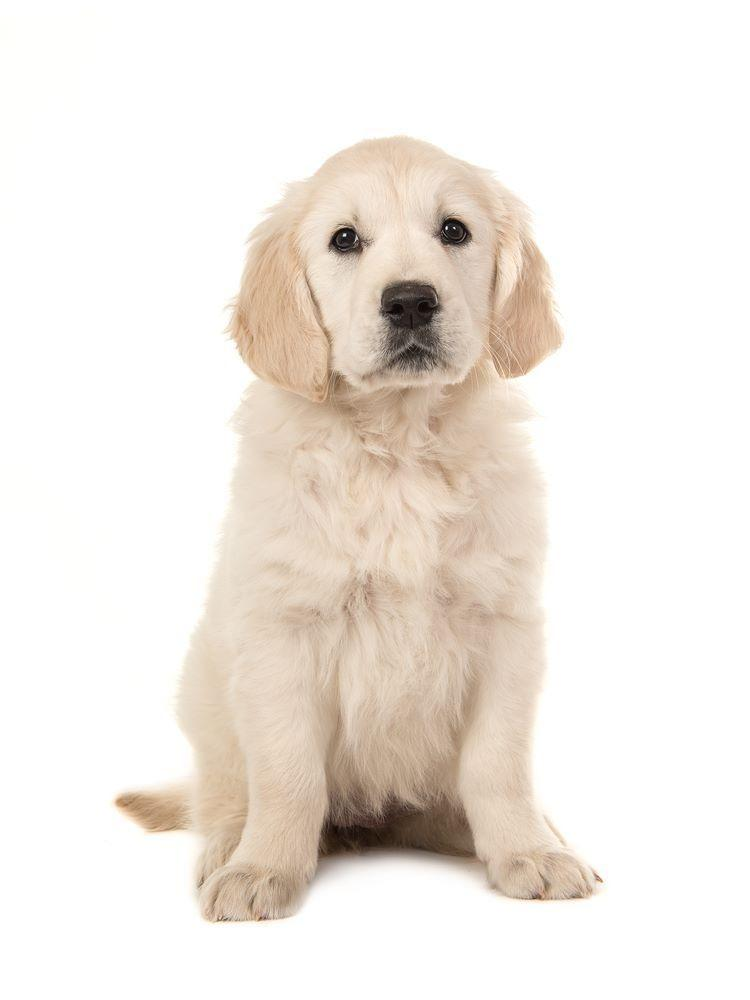puppy-dog: (108, 134, 607, 924)
